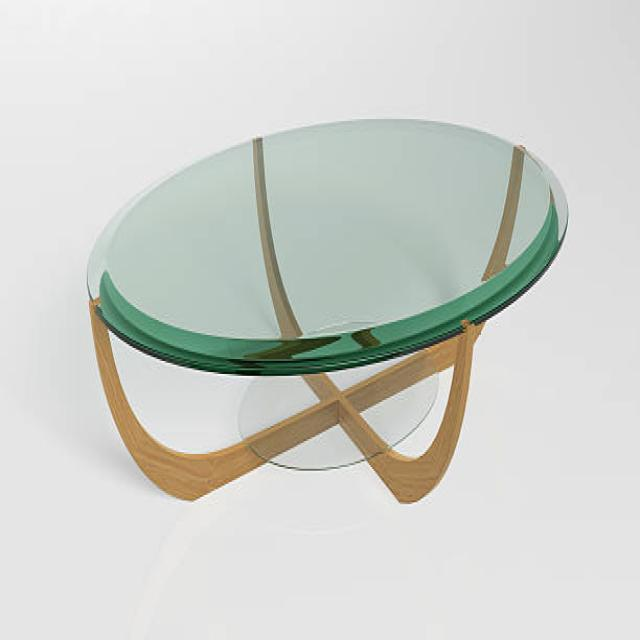table: (86, 113, 569, 504)
